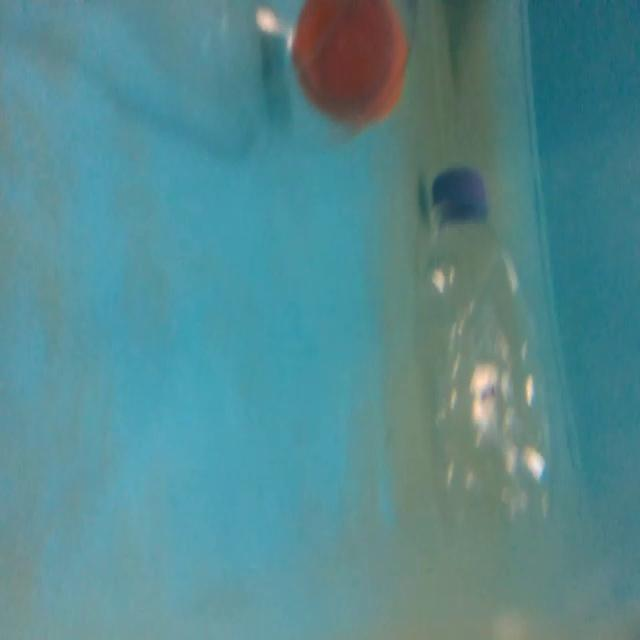plastic bottle: (407, 159, 566, 573)
